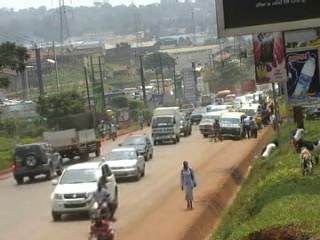Car: (48, 158, 121, 222), (9, 139, 65, 183), (99, 144, 146, 184), (113, 131, 155, 162), (178, 108, 195, 137), (187, 104, 209, 125)
Motorcycle: (87, 176, 121, 230)
